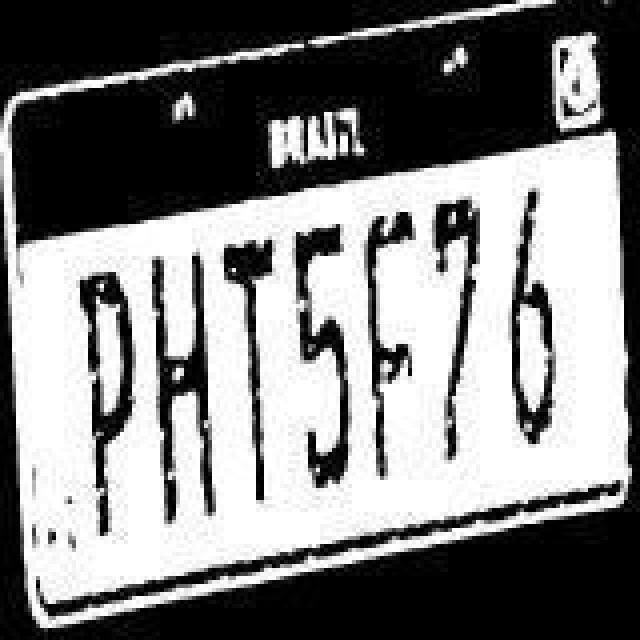5: (288, 226, 360, 510)
6: (492, 164, 564, 436)
7: (430, 182, 498, 458)
F: (368, 200, 424, 480)
H: (148, 256, 228, 536)
P: (80, 266, 160, 566)
T: (218, 246, 286, 514)
